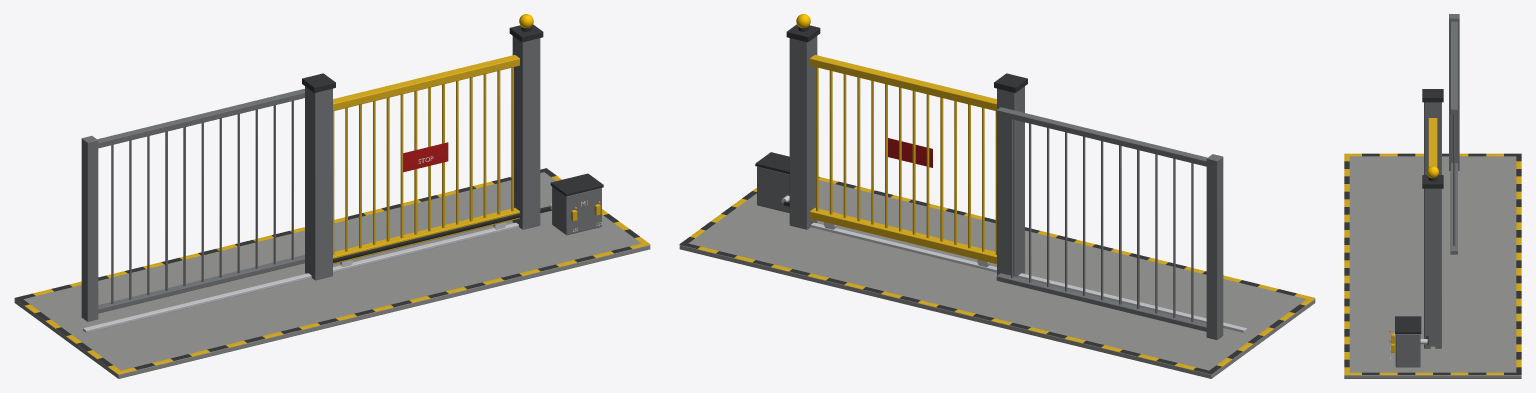
File: machine_gate.glb
The picture shows the model from 3 angles, left to right: view 1: azimuth 30°, elevation 25°; view 2: azimuth 150°, elevation 25°; view 3: azimuth 270°, elevation 25°; orthographic projection. The views are drawn at different scales.
Parts seen in each view (by area): view 1: frame, leaf_mesh; view 2: frame, leaf_mesh; view 3: frame, leaf_mesh.
Boxes of the visible parts, bbox=[...] form: frame: bbox=[14, 24, 650, 378]; leaf_mesh: bbox=[333, 55, 520, 267]; frame: bbox=[679, 24, 1315, 378]; leaf_mesh: bbox=[810, 55, 996, 267]; frame: bbox=[1344, 14, 1521, 378]; leaf_mesh: bbox=[1428, 118, 1437, 167].
Size of the model in its own units: 5.9 by 2.27 by 2.
